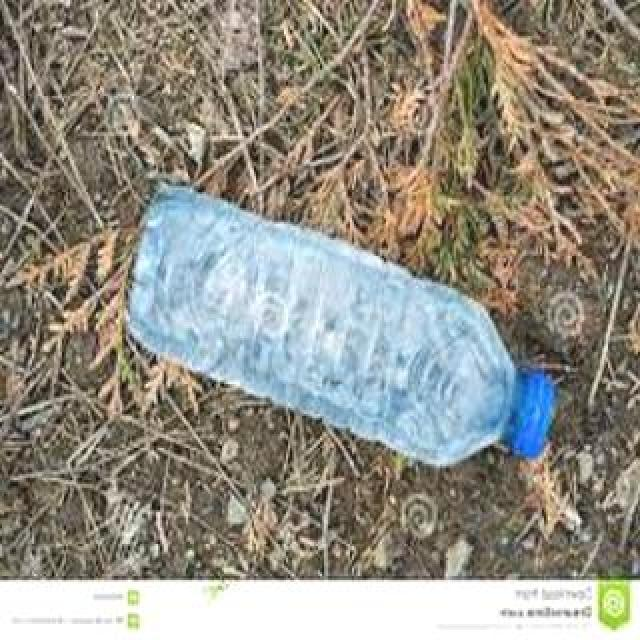Pet_Bottle: (126, 172, 558, 478)
